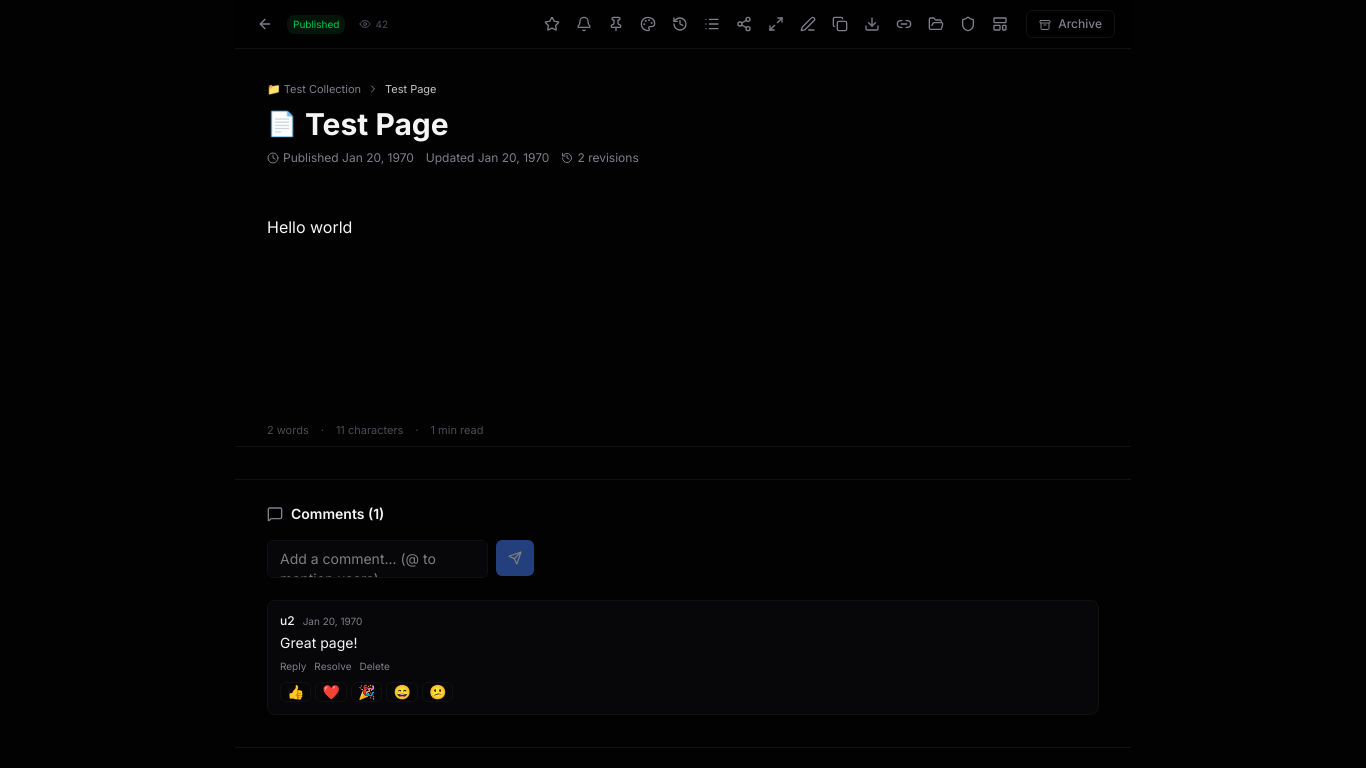
PageView › shows share dialog when Share button clicked
This screenshot has width=1366, height=768.
Click the button titled "Share" at coordinates (904, 24), box x1=890 y1=10 x2=918 y2=38
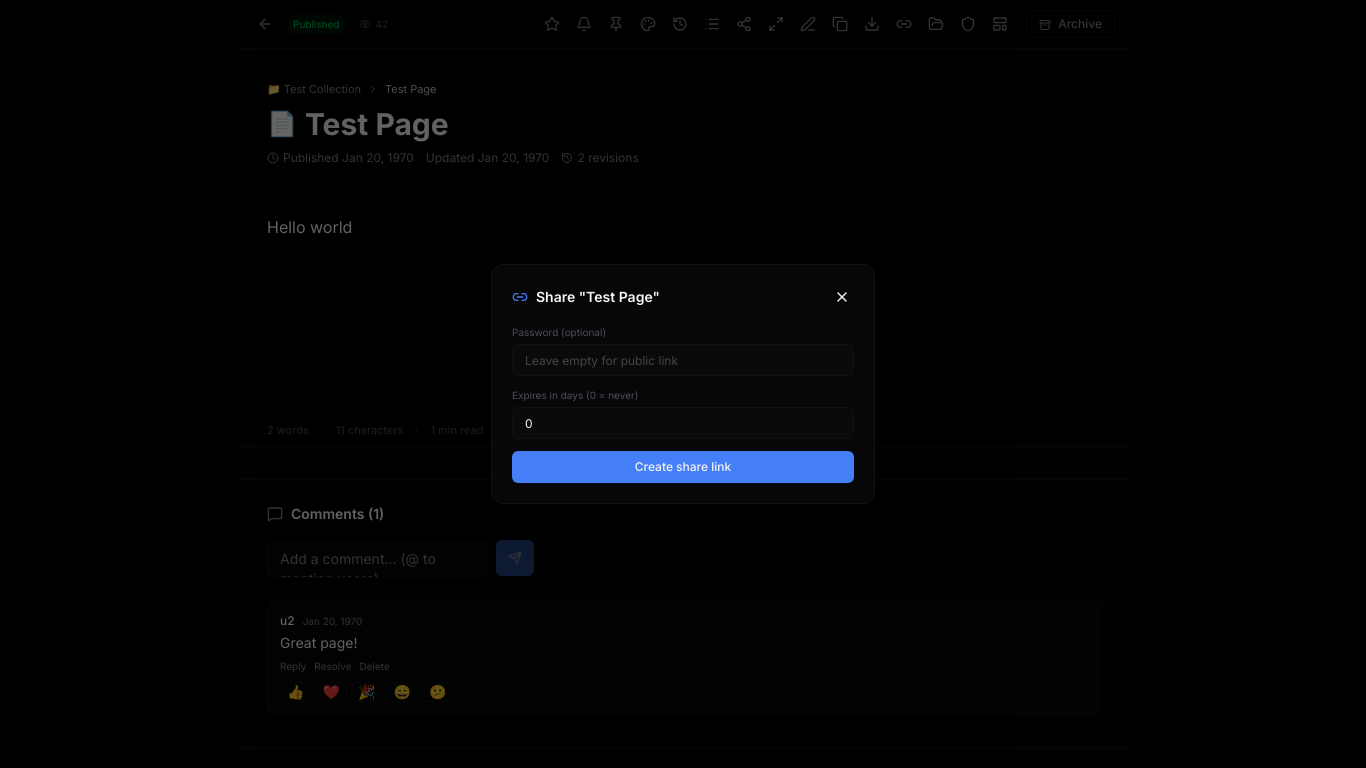
Now the heading "Share \"Test Page\"" is shown, box x1=512 y1=287 x2=660 y2=307
Now the button "Create share link" is shown, box x1=512 y1=451 x2=854 y2=483
